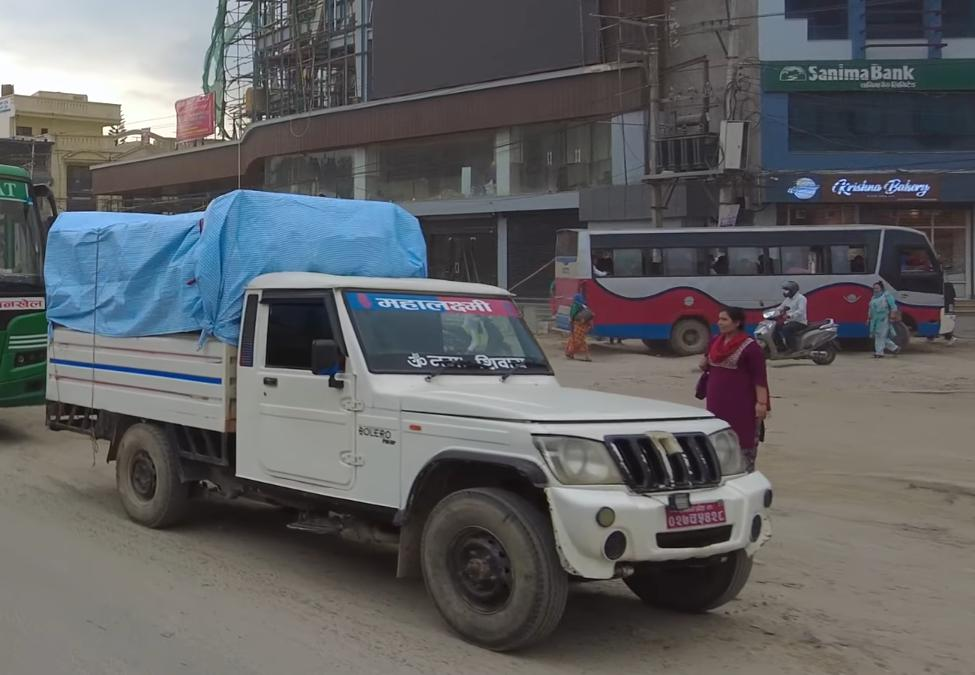bus: (559, 199, 974, 378), (0, 132, 68, 425)
scooter: (756, 272, 852, 384)
transport_vehicle: (33, 181, 776, 655)
